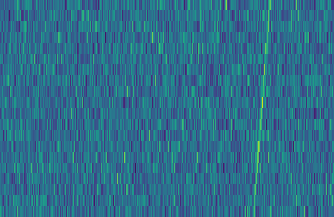signal: (250, 0, 276, 217)
